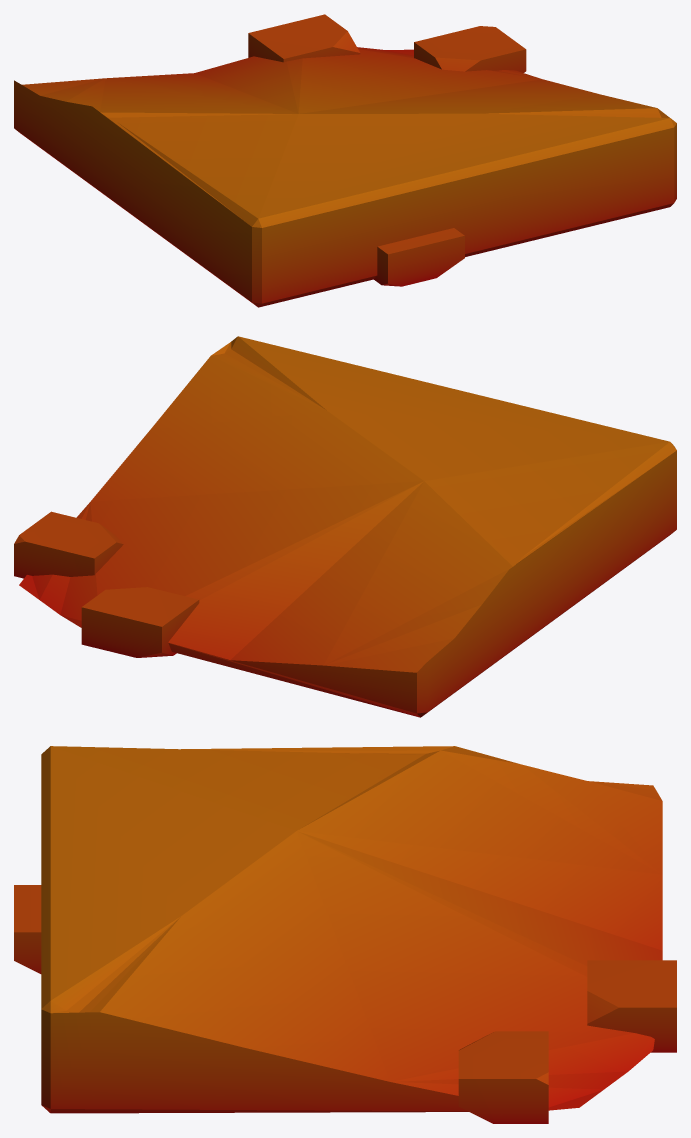
File: floor_slab_broken.glb
The picture shows the model from 3 angles, top to bottom: view 1: azimuth 30°, elevation 25°; view 2: azimuth 150°, elevation 25°; view 3: azimuth 270°, elevation 25°; orthographic projection. The views are drawn at different scales.
Visible parts, largest first — view 1: floor_slab_broken; view 2: floor_slab_broken; view 3: floor_slab_broken.
Boxes of the visible parts, x1,y1,x2,y2 form: floor_slab_broken: (14, 14, 676, 307); floor_slab_broken: (14, 336, 676, 717); floor_slab_broken: (14, 746, 676, 1123).
Size of what is drawn, in the model's own units: 2.05 by 0.4 by 2.13.
